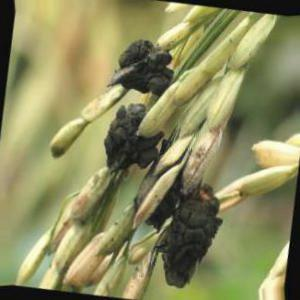Leaf_Scald: (162, 194, 226, 294), (108, 116, 156, 171), (125, 49, 169, 93)
